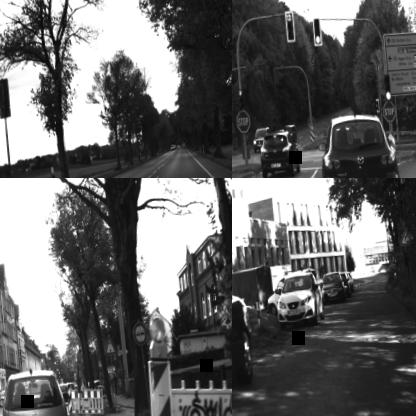CONSTRUCTION: (399, 226, 412, 247)
STOP: (236, 110, 250, 132), (382, 101, 396, 122)
keep right: (308, 123, 314, 132)
no overtaking (trucks): (132, 320, 148, 346)
traffic signal: (103, 334, 117, 356)
